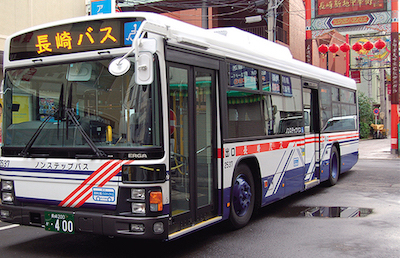destination: (26, 19, 120, 56)
